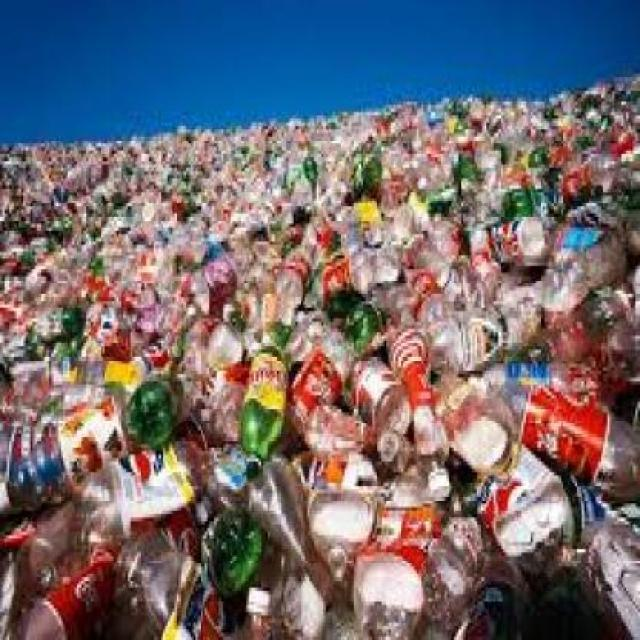garbage: (0, 143, 632, 632), (254, 109, 636, 136)
